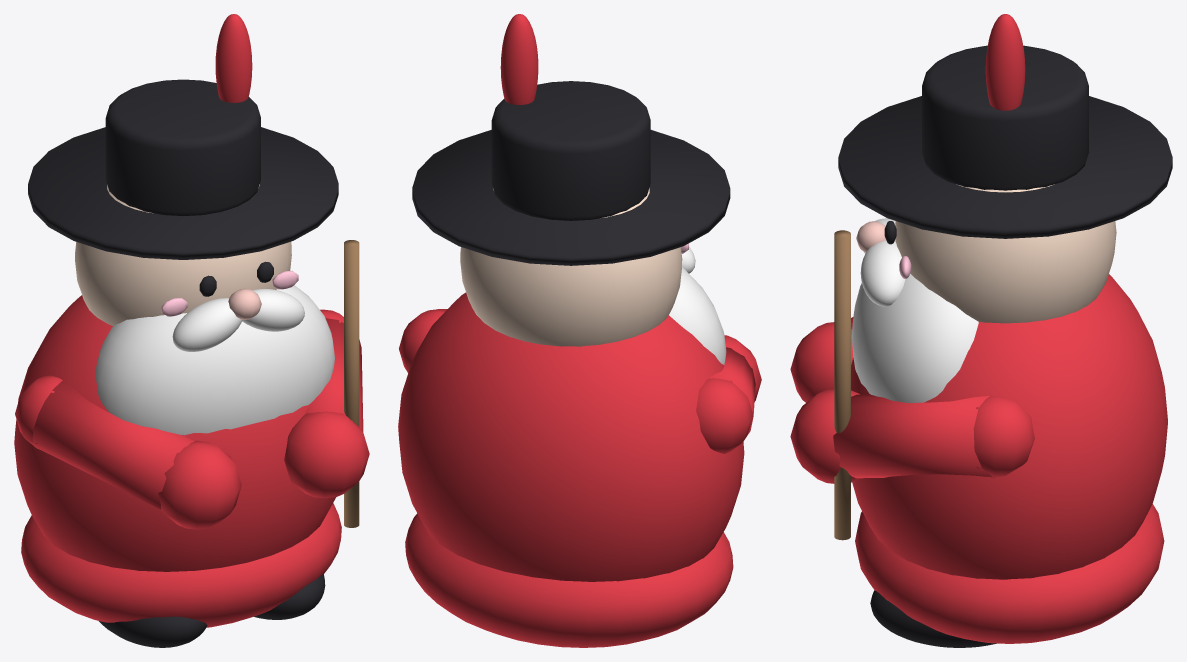
Rendered from guard.glb.
3 renders of one model, left to right at view 1: azimuth 30°, elevation 25°; view 2: azimuth 150°, elevation 25°; view 3: azimuth 270°, elevation 25°, orthographic. The views are drawn at different scales.
Parts seen in each view (by area): view 1: guard_red, guard_black, guard_white, guard_skin, guard_brown, guard_nose, guard_pink; view 2: guard_red, guard_black, guard_skin, guard_white; view 3: guard_red, guard_black, guard_skin, guard_white, guard_brown, guard_nose.
Part boxes in pixels (bbox=[...]): guard_red: bbox=[14, 14, 369, 627]; guard_black: bbox=[28, 79, 338, 647]; guard_white: bbox=[95, 285, 334, 435]; guard_skin: bbox=[75, 184, 291, 325]; guard_brown: bbox=[344, 240, 359, 527]; guard_nose: bbox=[228, 288, 261, 319]; guard_pink: bbox=[161, 270, 298, 316]; guard_red: bbox=[398, 14, 761, 647]; guard_black: bbox=[412, 81, 730, 265]; guard_skin: bbox=[460, 188, 682, 346]; guard_white: bbox=[669, 246, 726, 364]; guard_red: bbox=[790, 14, 1167, 643]; guard_black: bbox=[838, 45, 1172, 647]; guard_skin: bbox=[895, 184, 1116, 323]; guard_white: bbox=[851, 218, 978, 402]; guard_brown: bbox=[834, 230, 850, 540]; guard_nose: bbox=[856, 221, 885, 252].
Size of the model in its own units: 2 by 3.3 by 1.83.
